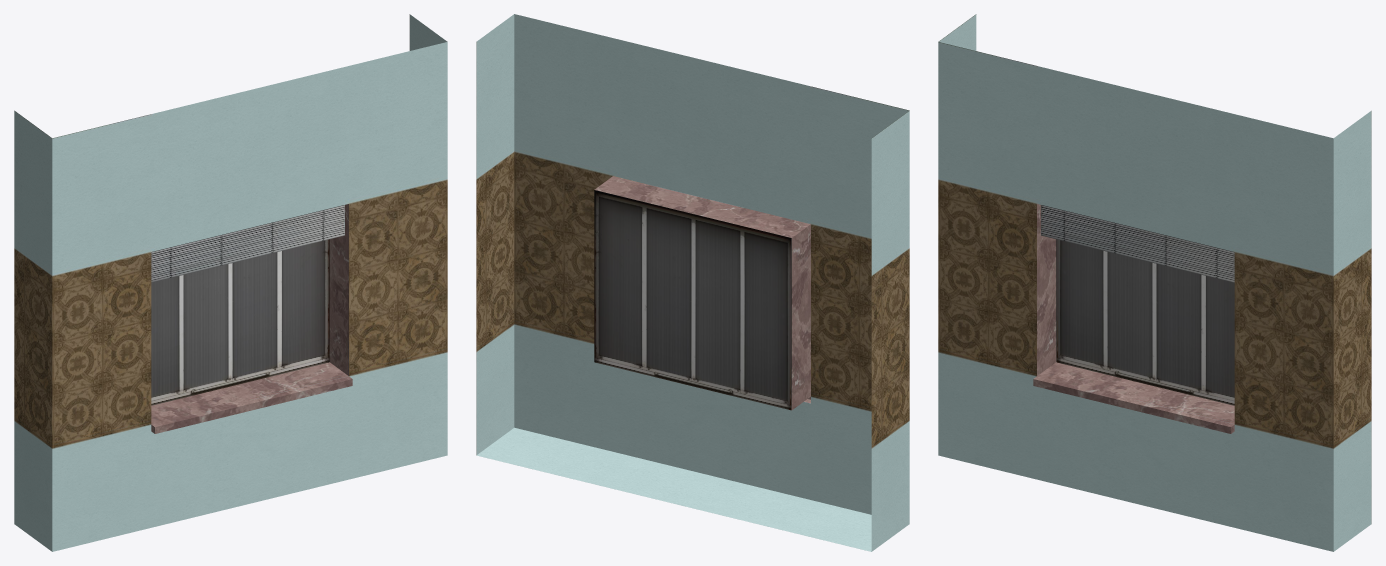
File: Building B Window A3.fbx
The picture shows the model from 3 angles, left to right: view 1: azimuth 30°, elevation 25°; view 2: azimuth 150°, elevation 25°; view 3: azimuth 330°, elevation 25°; orthographic projection.
Parts seen in each view (by area): view 1: Building B Window A3 (2, Baked); view 2: Building B Window A3 (2, Baked); view 3: Building B Window A3 (2, Baked).
Part boxes in pixels (<box>): Building B Window A3 (2, Baked): <box>14,14,447,551</box>; Building B Window A3 (2, Baked): <box>476,14,909,551</box>; Building B Window A3 (2, Baked): <box>938,14,1371,551</box>.
Size of the model in its own units: 300 by 300 by 55.
